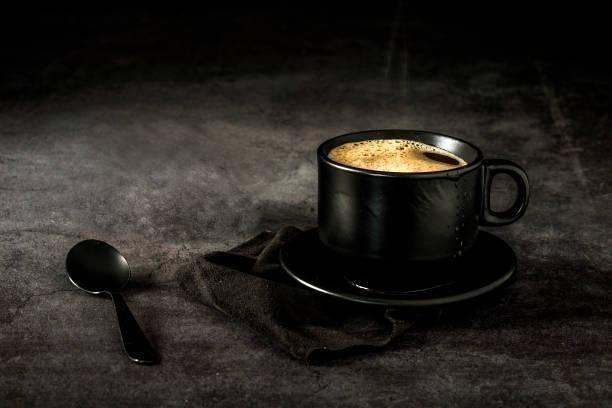cup-handle: (315, 126, 530, 292)
